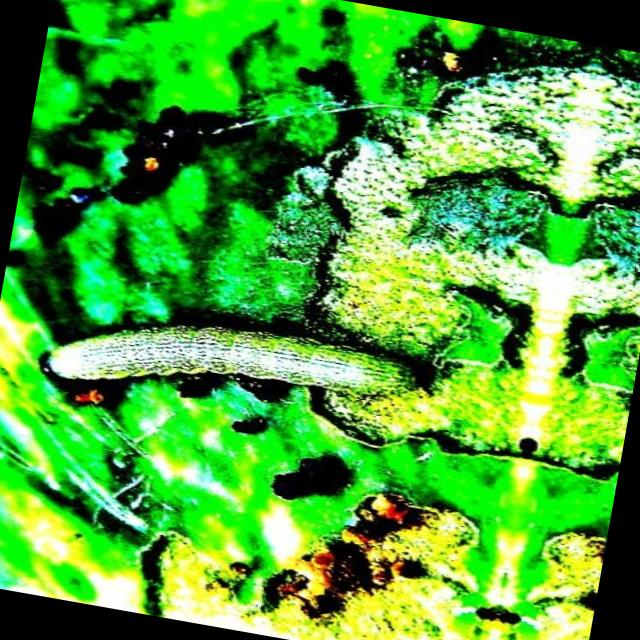Armyworm: (24, 257, 457, 460)
